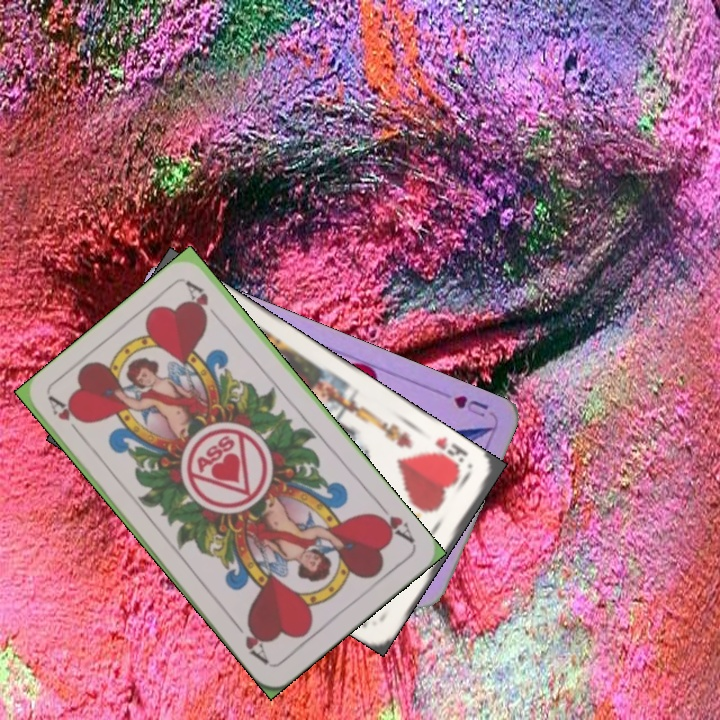HA: (368, 498, 417, 547), (45, 392, 89, 444)
HK: (422, 433, 471, 474)
HU: (450, 391, 491, 423)
